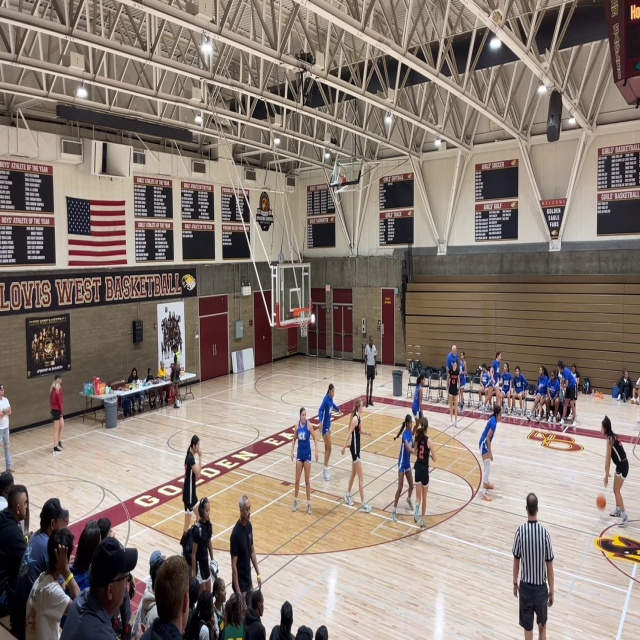Basketball: (596, 494, 606, 509)
